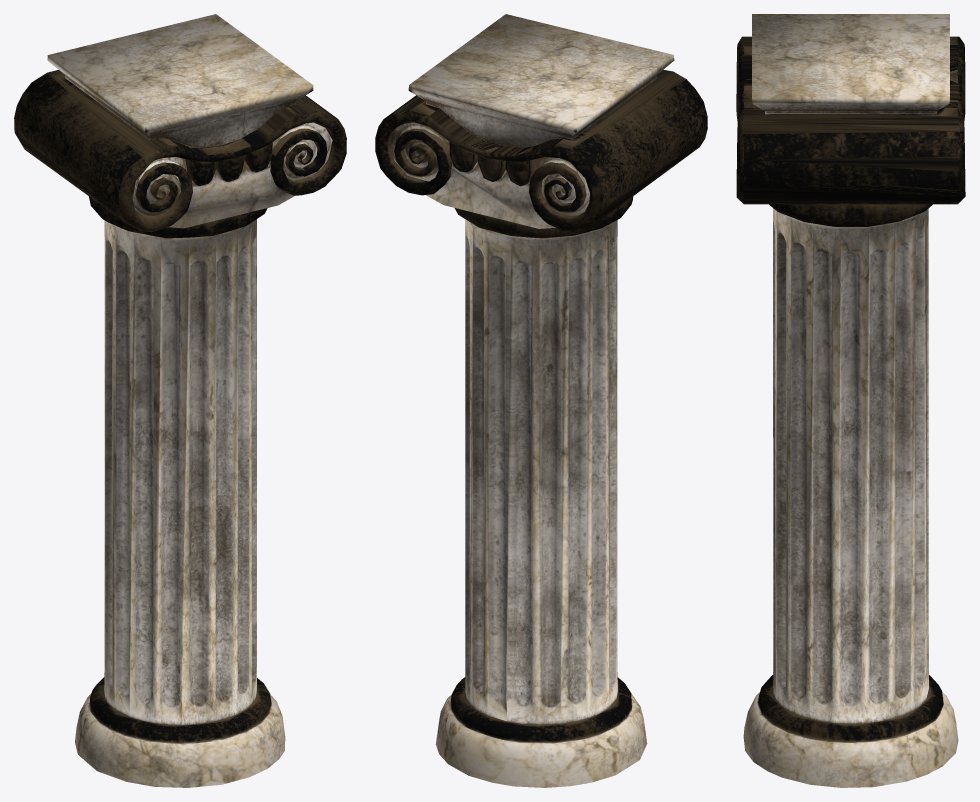
The model's file is Column_LowPoly02.fbx.
The picture shows the model from 3 angles, left to right: view 1: azimuth 30°, elevation 25°; view 2: azimuth 150°, elevation 25°; view 3: azimuth 270°, elevation 25°; orthographic projection.
Visible parts, largest first — view 1: ArchitecuralColumn_LowPoly; view 2: ArchitecuralColumn_LowPoly; view 3: ArchitecuralColumn_LowPoly.
Boxes of the visible parts, x1,y1,x2,y2 form: ArchitecuralColumn_LowPoly: (14,14,346,787); ArchitecuralColumn_LowPoly: (375,14,707,787); ArchitecuralColumn_LowPoly: (736,14,965,787).
Size of the model in its own units: 101 by 286 by 86.69.
1 material, 1 textured.
